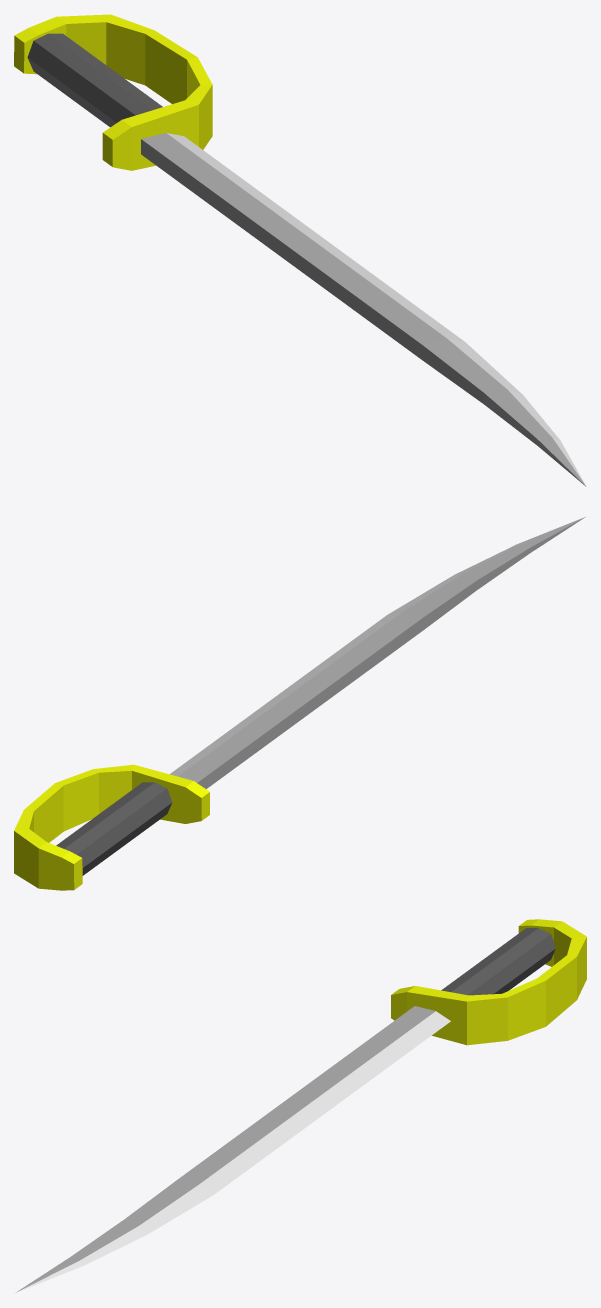
File: sword.02.fbx
The picture shows the model from 3 angles, top to bottom: view 1: azimuth 30°, elevation 25°; view 2: azimuth 150°, elevation 25°; view 3: azimuth 330°, elevation 25°; orthographic projection. The views are drawn at different scales.
Parts seen in each view (by area): view 1: sword.02; view 2: sword.02; view 3: sword.02.
Part boxes in pixels (x1,y1,x2,y2): sword.02: (14, 14, 586, 486); sword.02: (14, 517, 585, 890); sword.02: (15, 919, 586, 1292).
Size of the model in its own units: 0.1673 by 0.0651 by 1.27.
